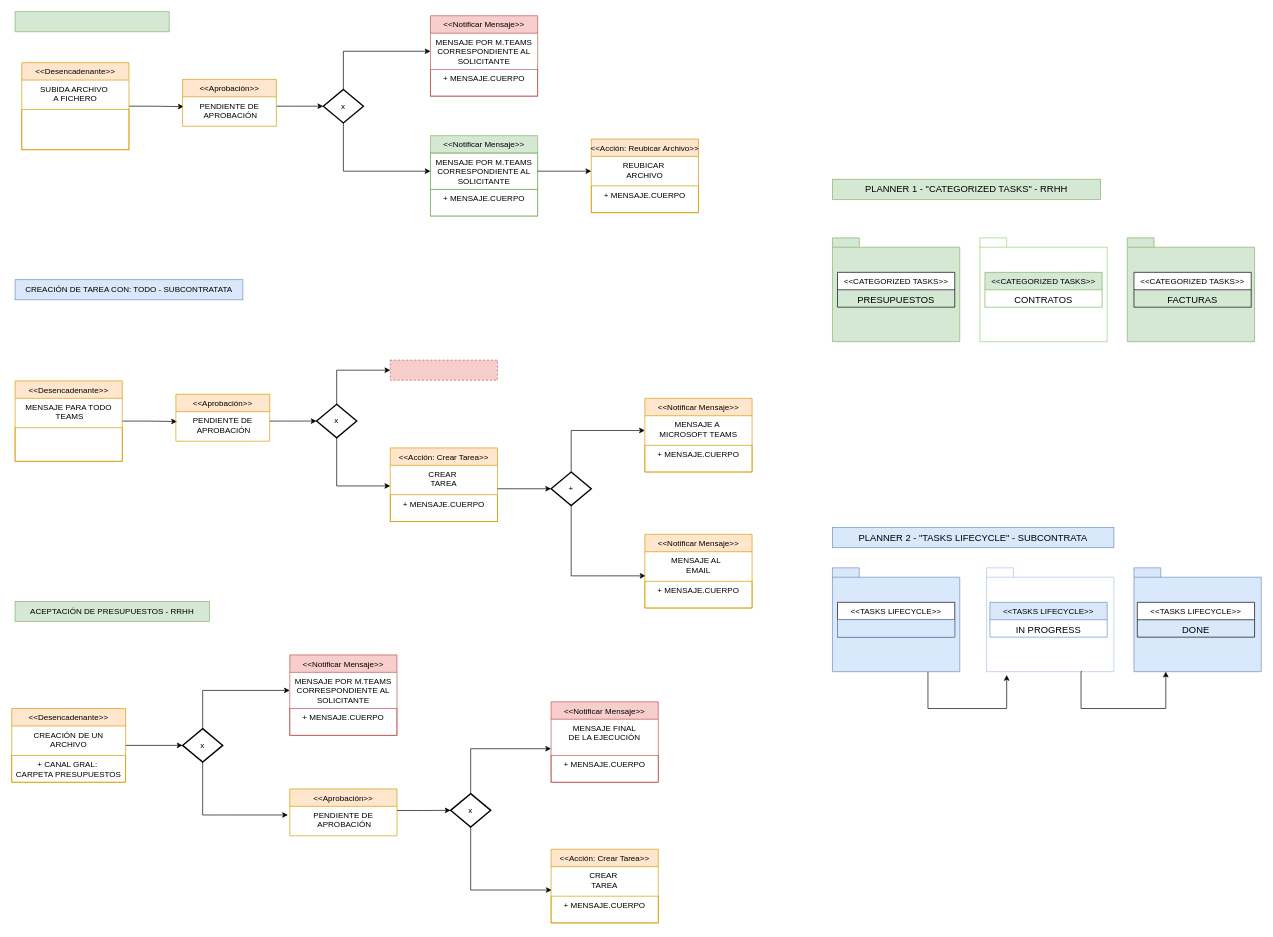
Image size: 1273x937. Some labels were removed from this diagram. Each missing label, with the centre of its shape:
"+ CANAL GRAL: CARPETA PROYECTOS A VERIFICAR" goes at (x=75, y=129).
"+ CANAL GRAL: MENSAJE TODO" goes at (x=68, y=444).
"NO SE APRUEBA" goes at (x=443, y=369).
"REUBICACIÓN DE ARCHIVOS - RRHH" goes at (x=91, y=21).
"TO DO" goes at (x=896, y=628).
